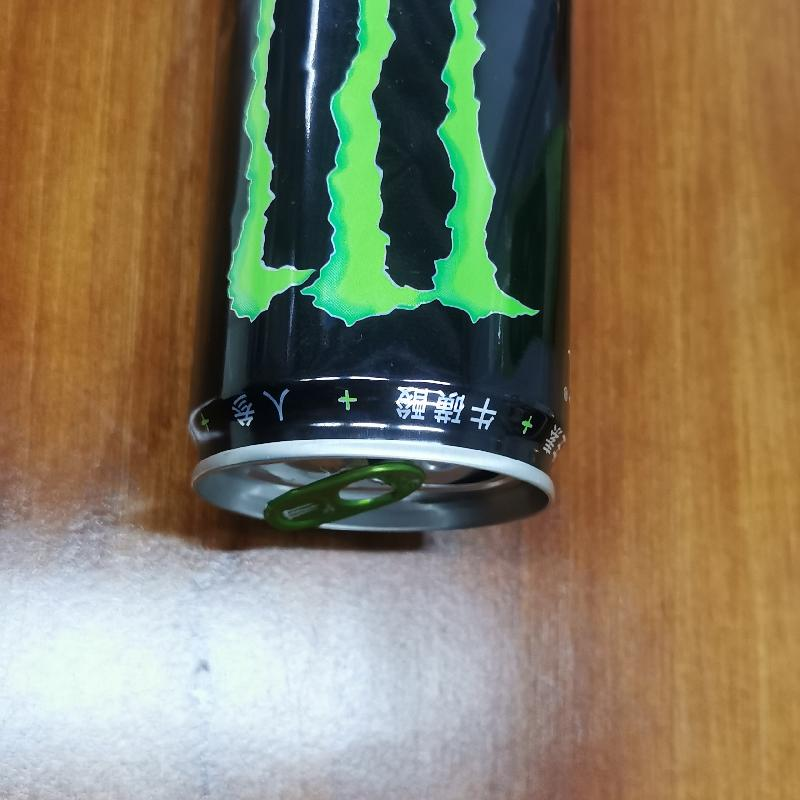cans: (183, 8, 581, 545)
